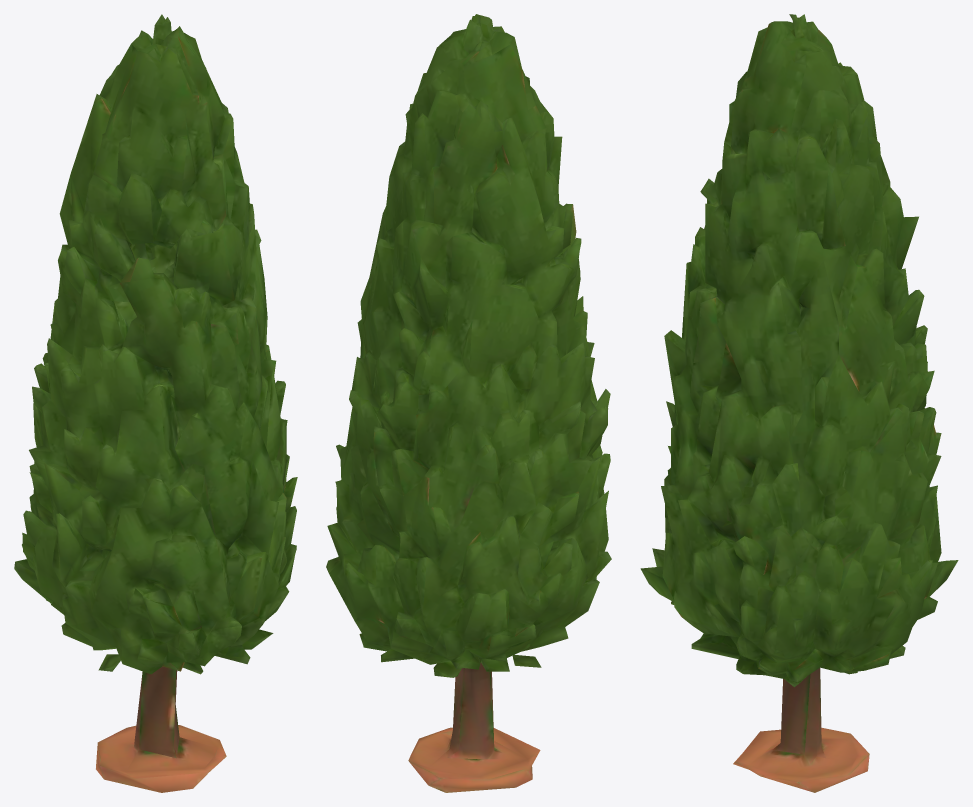
File: cypress_tree.glb
3 views of the same model, side by side, from view 1: azimuth 30°, elevation 25°; view 2: azimuth 150°, elevation 25°; view 3: azimuth 270°, elevation 25° (orthographic).
Parts seen in each view (by area): view 1: 0; view 2: 0; view 3: 0.
Boxes of the visible parts, box(x1,y1,x2,y2) form: 0: box(14, 14, 297, 792); 0: box(326, 14, 611, 792); 0: box(640, 14, 958, 792).
Bounding box in the file's own units: 0.6576 × 1.91 × 0.7279.
Materials: 1 (1 with a texture image).
